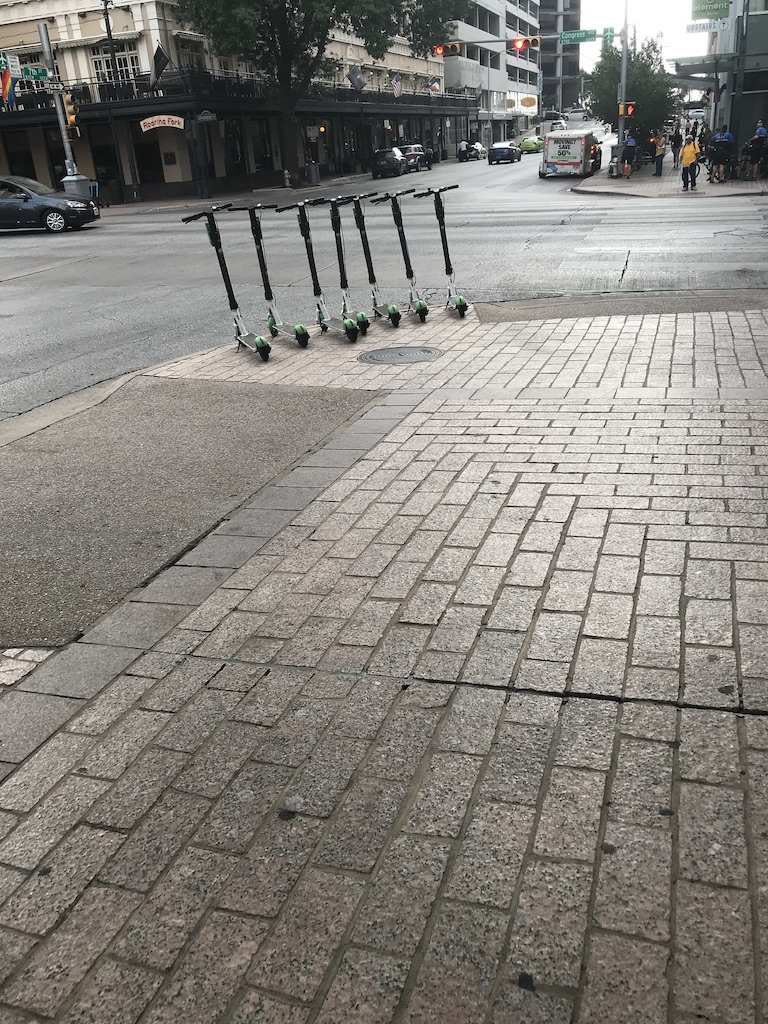scooter: (183, 203, 272, 362), (275, 196, 360, 345), (228, 203, 310, 348), (312, 193, 372, 337), (338, 192, 402, 326), (371, 188, 430, 324), (412, 185, 468, 319)
